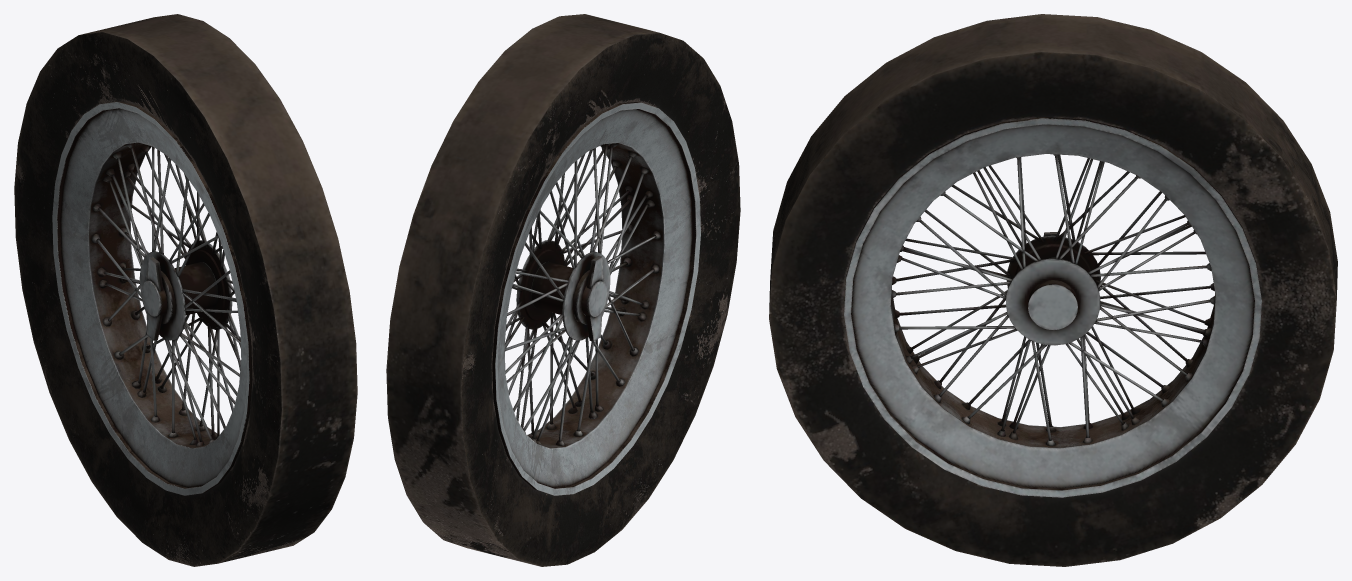
Rendered from VintageCar_WheelFL.fbx.
3 views of the same model, side by side, from view 1: azimuth 30°, elevation 25°; view 2: azimuth 150°, elevation 25°; view 3: azimuth 270°, elevation 25° (orthographic). The views are drawn at different scales.
Visible parts, largest first — view 1: VintageCar_WheelFL; view 2: VintageCar_WheelFL; view 3: VintageCar_WheelFL.
Part boxes in pixels (x1,y1,x2,y2): VintageCar_WheelFL: (14,14,357,566); VintageCar_WheelFL: (386,14,740,566); VintageCar_WheelFL: (769,14,1337,566).
Size of the model in its own units: 14.26 by 78.94 by 79.08.
Materials: 1 (1 with a texture image).
